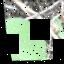Morning glory: (0, 0, 64, 64)
